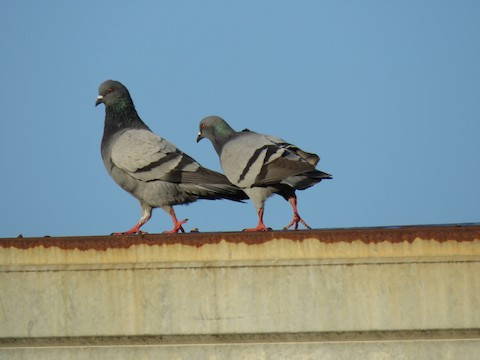pigeon: (90, 77, 257, 236), (195, 109, 336, 241)
